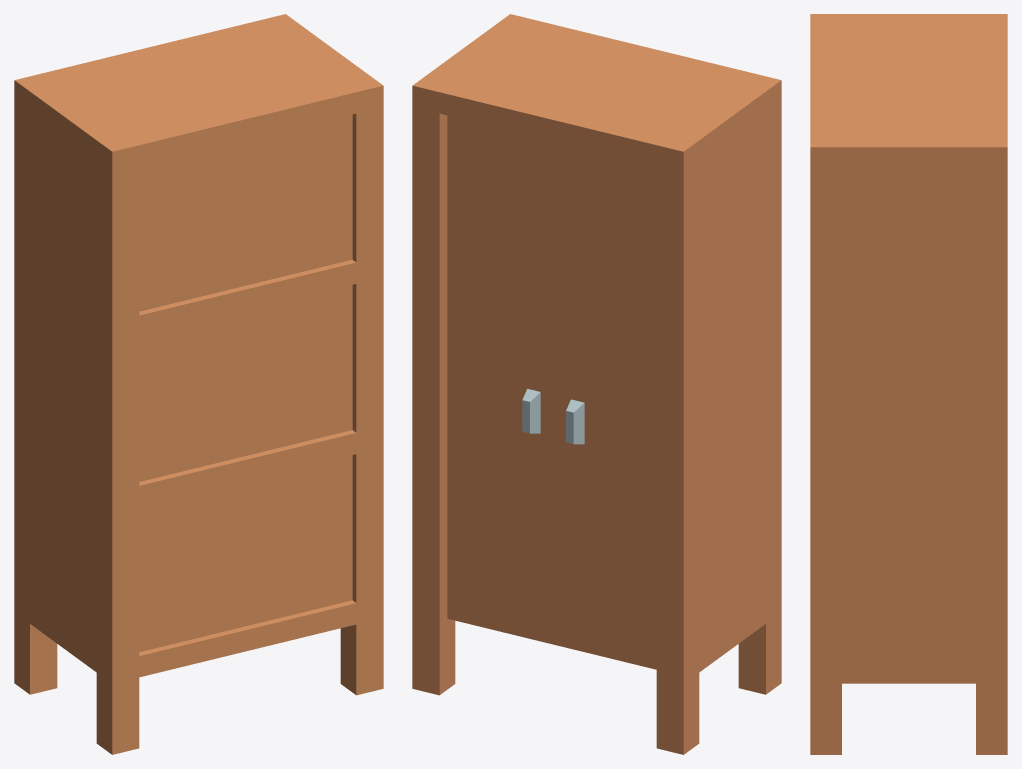
Rendered from bookcasecloseddoors.gltf.
The picture shows the model from 3 angles, left to right: view 1: azimuth 30°, elevation 25°; view 2: azimuth 150°, elevation 25°; view 3: azimuth 270°, elevation 25°; orthographic projection.
Visible parts, largest first — view 1: bookcasecloseddoors; view 2: bookcasecloseddoors; view 3: bookcasecloseddoors.
Part boxes in pixels (box(x1,y1,x2,y2)): bookcasecloseddoors: box(14, 14, 383, 754); bookcasecloseddoors: box(412, 14, 781, 754); bookcasecloseddoors: box(810, 14, 1007, 754).
Size of the model in its own units: 0.4 by 0.85 by 0.25.
1 material, 1 textured.
